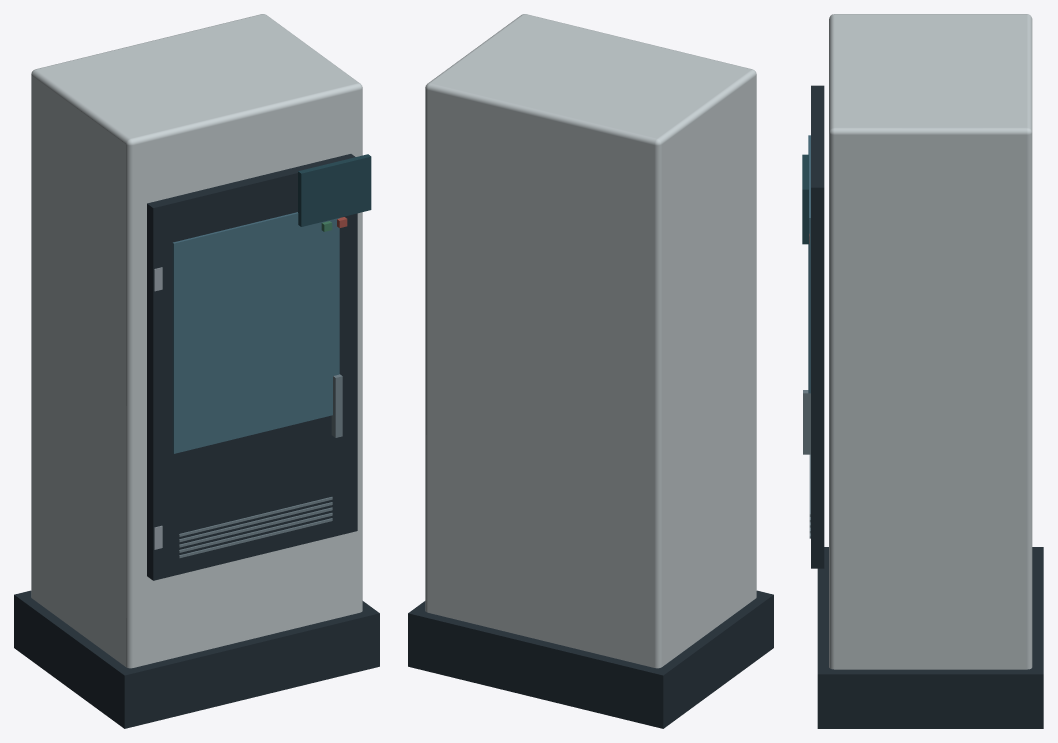
The model's file is robot-controller.glb.
The picture shows the model from 3 angles, left to right: view 1: azimuth 30°, elevation 25°; view 2: azimuth 150°, elevation 25°; view 3: azimuth 270°, elevation 25°; orthographic projection. The views are drawn at different scales.
Bounding box in the file's own units: 0.8 × 1.74 × 0.641.
